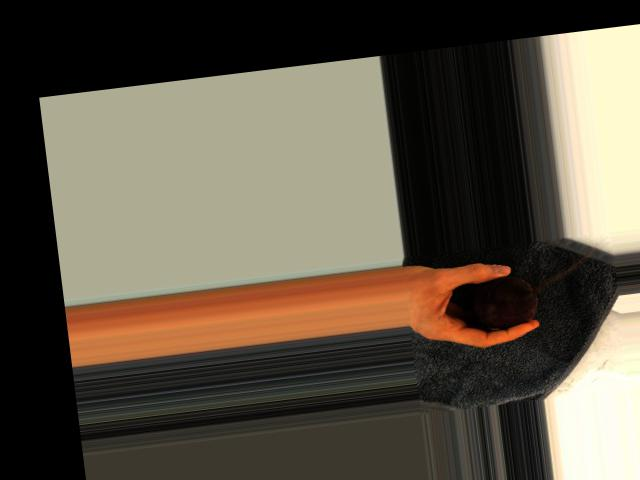beet: (469, 273, 540, 331)
